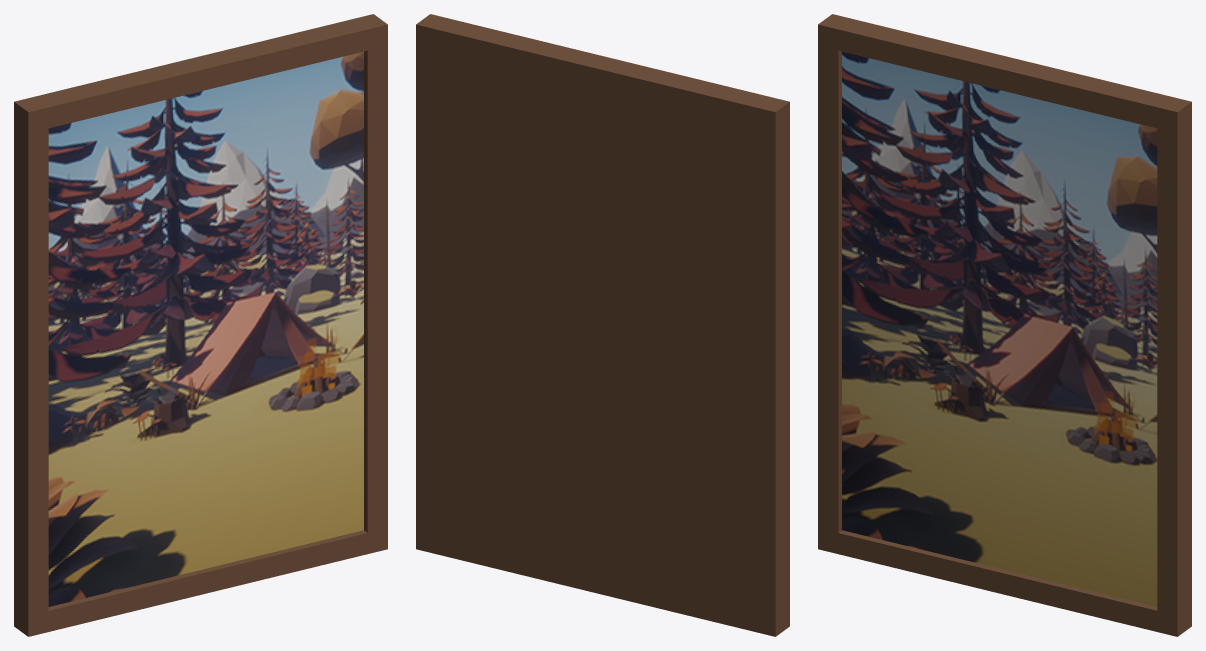
File: Painting_23.fbx
3 renders of one model, left to right at view 1: azimuth 30°, elevation 25°; view 2: azimuth 150°, elevation 25°; view 3: azimuth 330°, elevation 25°, orthographic.
Parts seen in each view (by area): view 1: Painting_23; view 2: Painting_23; view 3: Painting_23.
Part boxes in pixels (<box>): Painting_23: <box>14,14,387,636</box>; Painting_23: <box>416,14,789,636</box>; Painting_23: <box>818,14,1191,636</box>.
Size of the model in its own units: 45.37 by 63.27 by 3.14.
